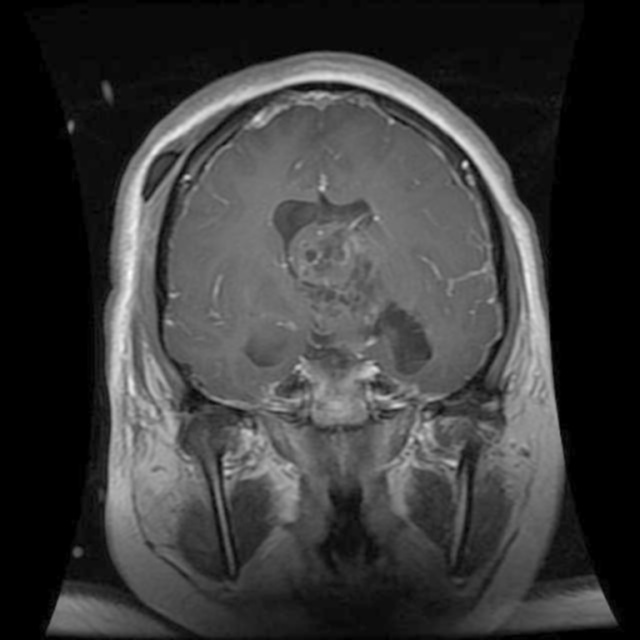pituitary tumor: (304, 361, 374, 420)
